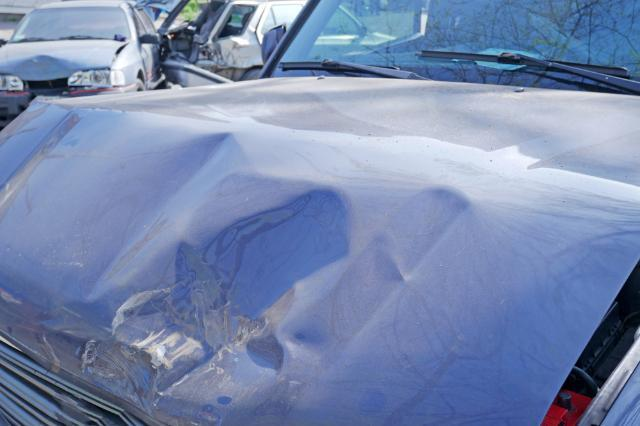dent: (51, 131, 482, 426), (11, 54, 85, 82)
